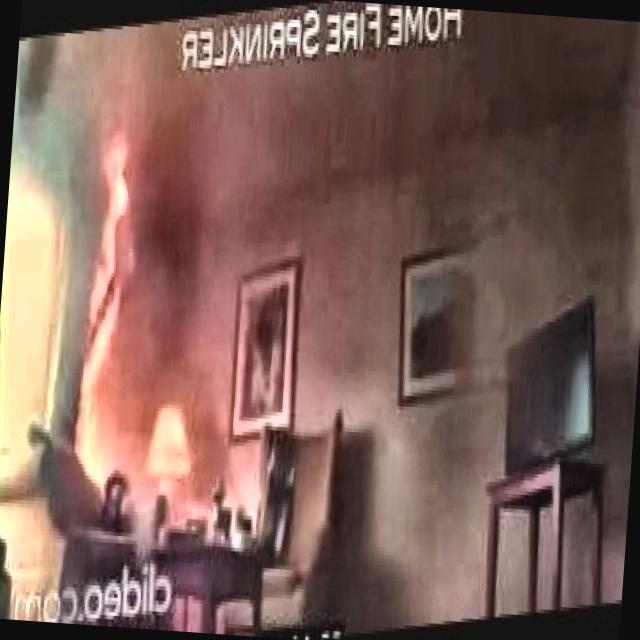fire: (38, 107, 178, 514)
